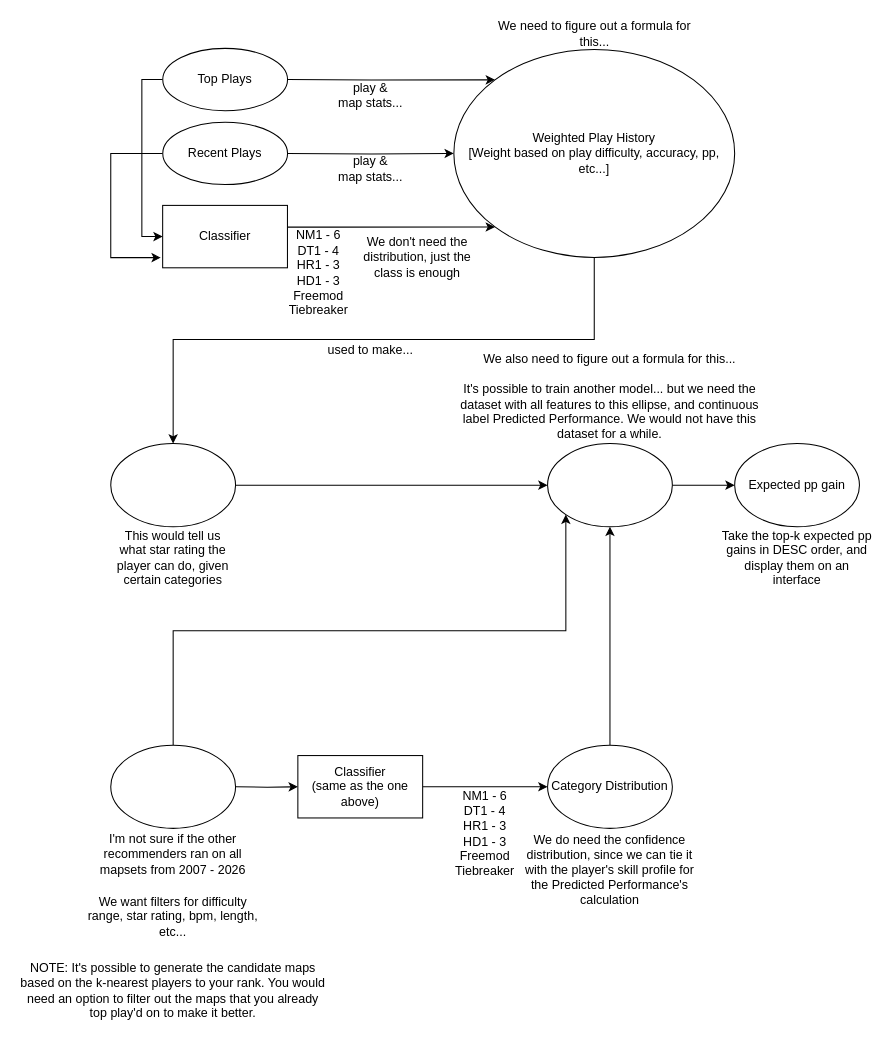
Some shapes in this 893 by 1044 pixel diagram are drawn without their labels. Here are the shapes that lost their labels. From the top down, the centre of each, then its label:
At (x=173, y=485): "Player's Skill Profile".
At (x=609, y=485): "Predicted Performance".
At (x=173, y=786): "Candidate Maps".
